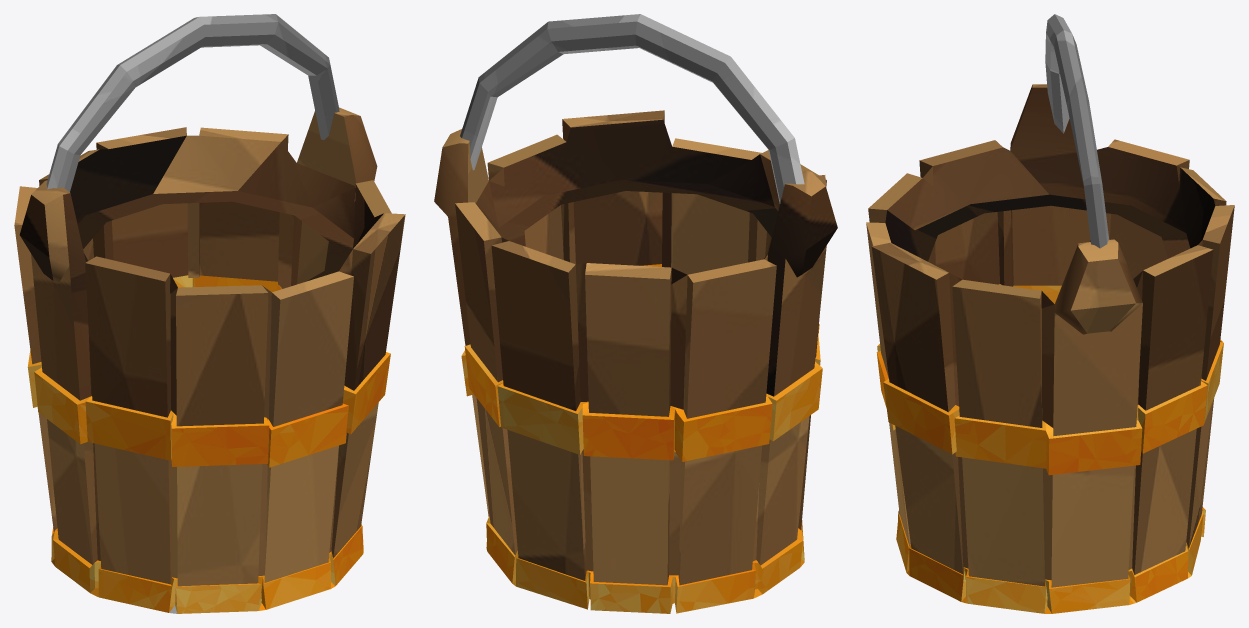
The model's file is bucket.fbx.
The picture shows the model from 3 angles, left to right: view 1: azimuth 30°, elevation 25°; view 2: azimuth 150°, elevation 25°; view 3: azimuth 270°, elevation 25°; orthographic projection. The views are drawn at different scales.
Visible parts, largest first — view 1: pCylinder37, pTorus1; view 2: pCylinder37, pTorus1; view 3: pCylinder37, pTorus1.
Boxes of the visible parts, x1,y1,x2,y2 form: pCylinder37: (14, 107, 405, 613); pTorus1: (46, 14, 339, 192); pCylinder37: (434, 110, 837, 613); pTorus1: (460, 14, 804, 203); pCylinder37: (866, 84, 1234, 613); pTorus1: (1045, 14, 1109, 248).
Bounding box in the file's own units: 0.5851 × 0.8358 × 0.5376.
